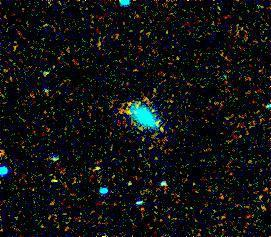star: (148, 113, 178, 143)
